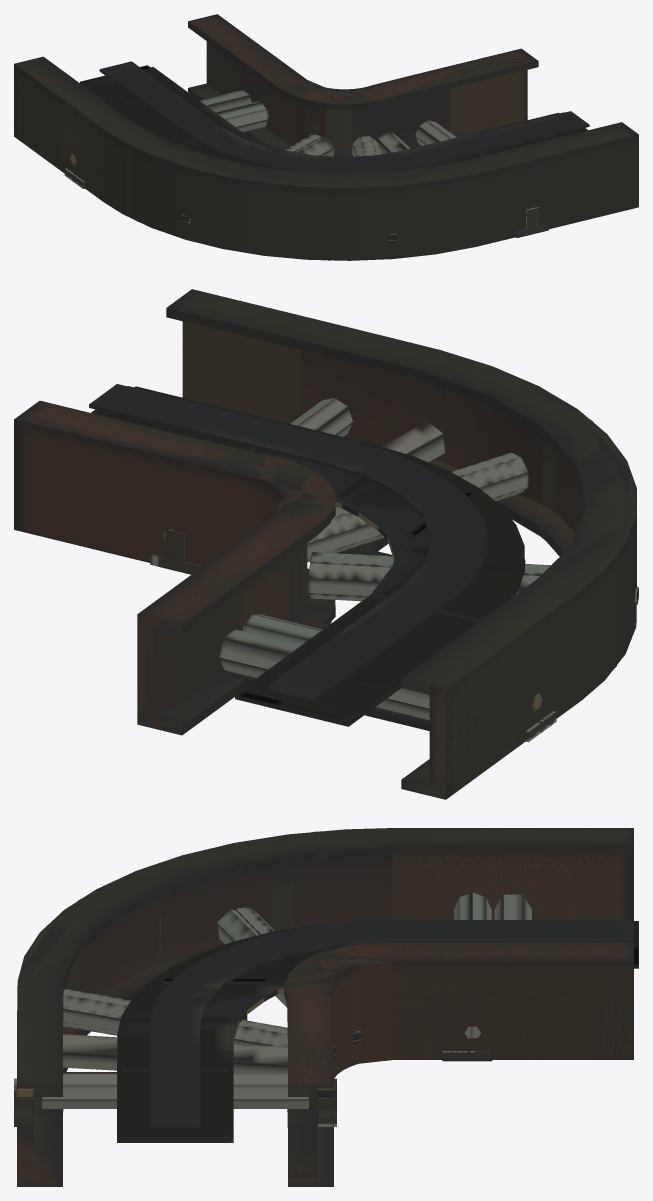
Rendered from place_works_conduit_lane_corner.glb.
The picture shows the model from 3 angles, top to bottom: view 1: azimuth 30°, elevation 25°; view 2: azimuth 150°, elevation 25°; view 3: azimuth 270°, elevation 25°; orthographic projection. The views are drawn at different scales.
Parts seen in each view (by area): view 1: LOD0_Merged_Material_Atlas, LOD1_Merged_Material_Atlas, LOD2_Merged_Material_Atlas, LOD0_flow_mesh, LOD1_flow_mesh, LOD2_flow_mesh; view 2: LOD0_Merged_Material_Atlas, LOD1_Merged_Material_Atlas, LOD2_Merged_Material_Atlas, LOD0_flow_mesh, LOD1_flow_mesh, LOD2_flow_mesh; view 3: LOD0_Merged_Material_Atlas, LOD1_Merged_Material_Atlas, LOD2_Merged_Material_Atlas, LOD0_flow_mesh, LOD1_flow_mesh, LOD2_flow_mesh.
Boxes of the visible parts, box(x1,y1,x2,y2) form: LOD0_Merged_Material_Atlas: box(14, 14, 638, 260); LOD1_Merged_Material_Atlas: box(14, 15, 638, 260); LOD2_Merged_Material_Atlas: box(14, 47, 633, 201); LOD0_flow_mesh: box(80, 65, 587, 169); LOD1_flow_mesh: box(85, 67, 579, 166); LOD2_flow_mesh: box(189, 132, 504, 163); LOD0_Merged_Material_Atlas: box(14, 289, 638, 799); LOD1_Merged_Material_Atlas: box(14, 290, 634, 799); LOD2_Merged_Material_Atlas: box(15, 290, 629, 799); LOD0_flow_mesh: box(91, 386, 524, 726); LOD1_flow_mesh: box(104, 386, 525, 725); LOD2_flow_mesh: box(217, 415, 519, 620); LOD0_Merged_Material_Atlas: box(14, 828, 633, 1186); LOD1_Merged_Material_Atlas: box(17, 828, 633, 1186); LOD2_Merged_Material_Atlas: box(17, 828, 633, 1186); LOD0_flow_mesh: box(117, 921, 638, 1142); LOD1_flow_mesh: box(117, 923, 339, 1142); LOD2_flow_mesh: box(118, 927, 321, 1055).
Bounding box in the file's own units: 1.5 × 0.26 × 1.5.
1 material, 1 textured.
